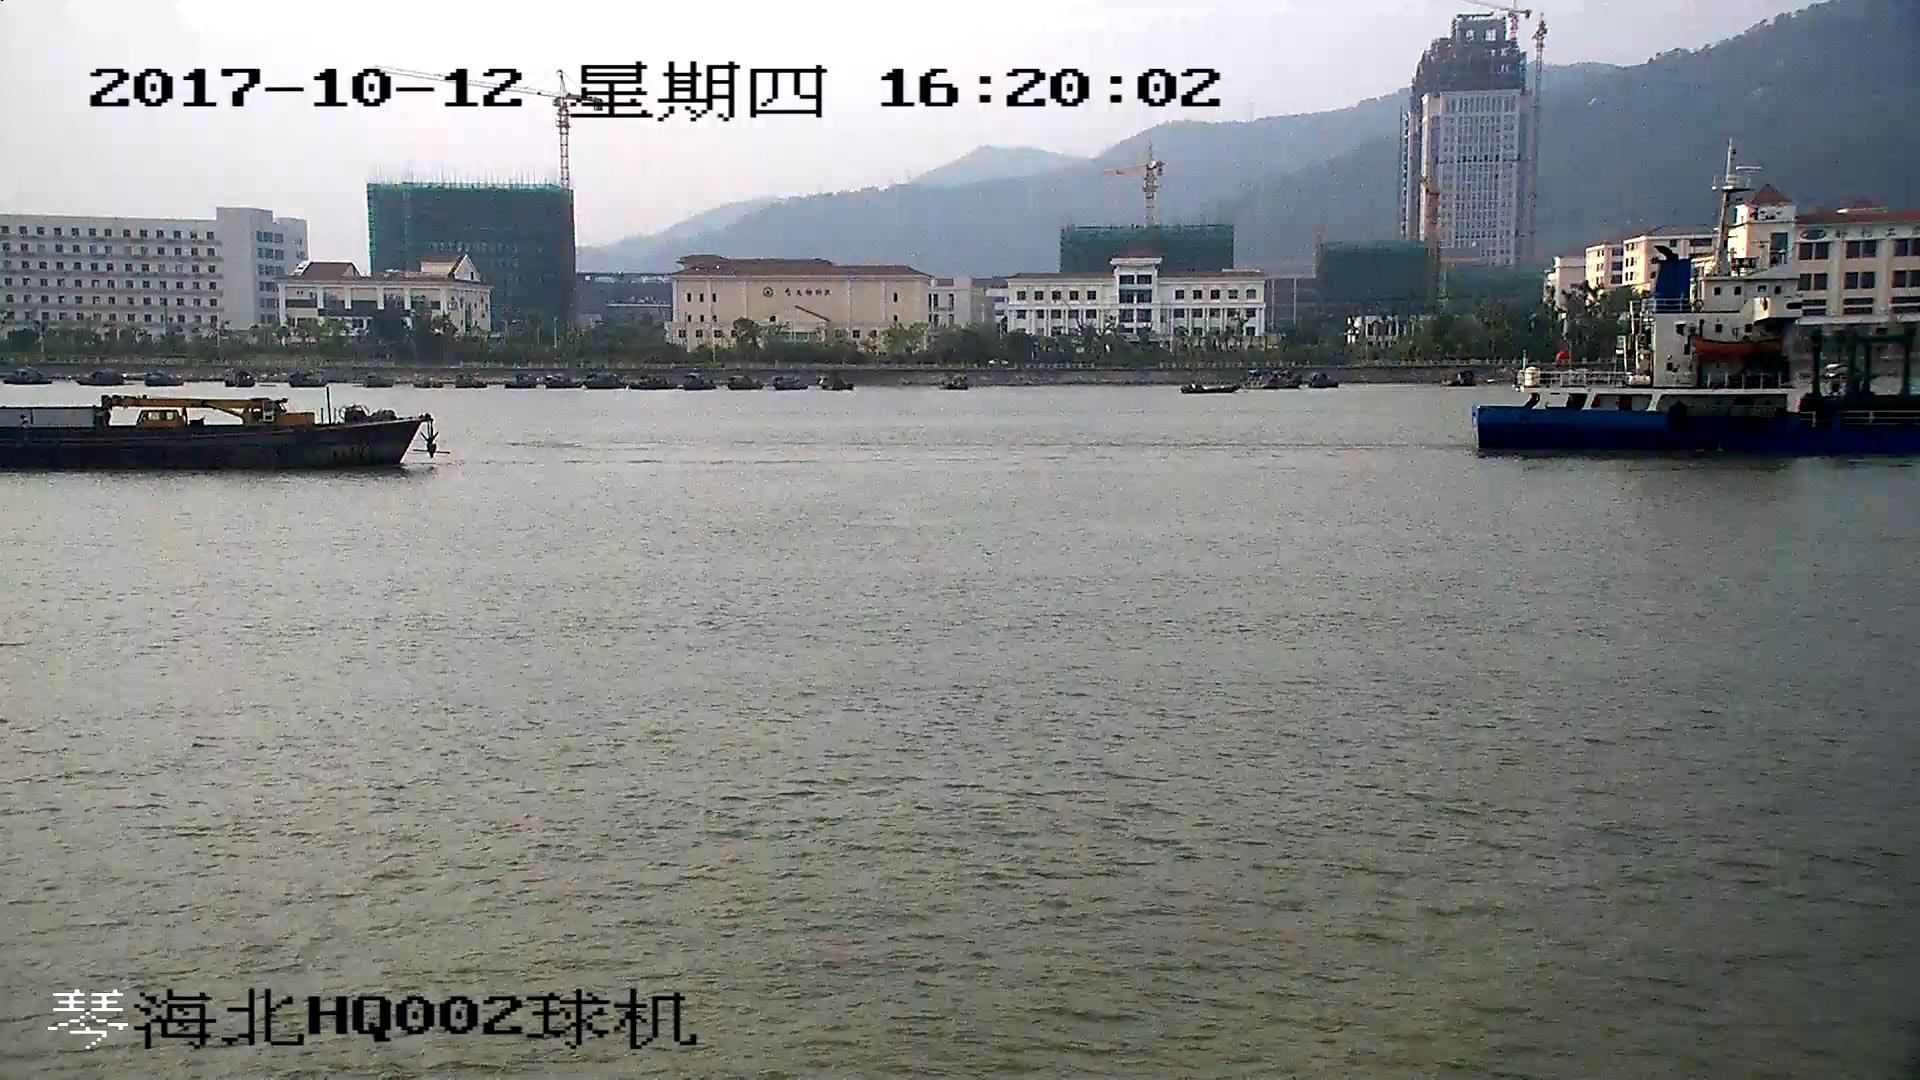bulk cargo carrier: (1475, 146, 1920, 464)
fishing boat: (1, 394, 438, 475)
